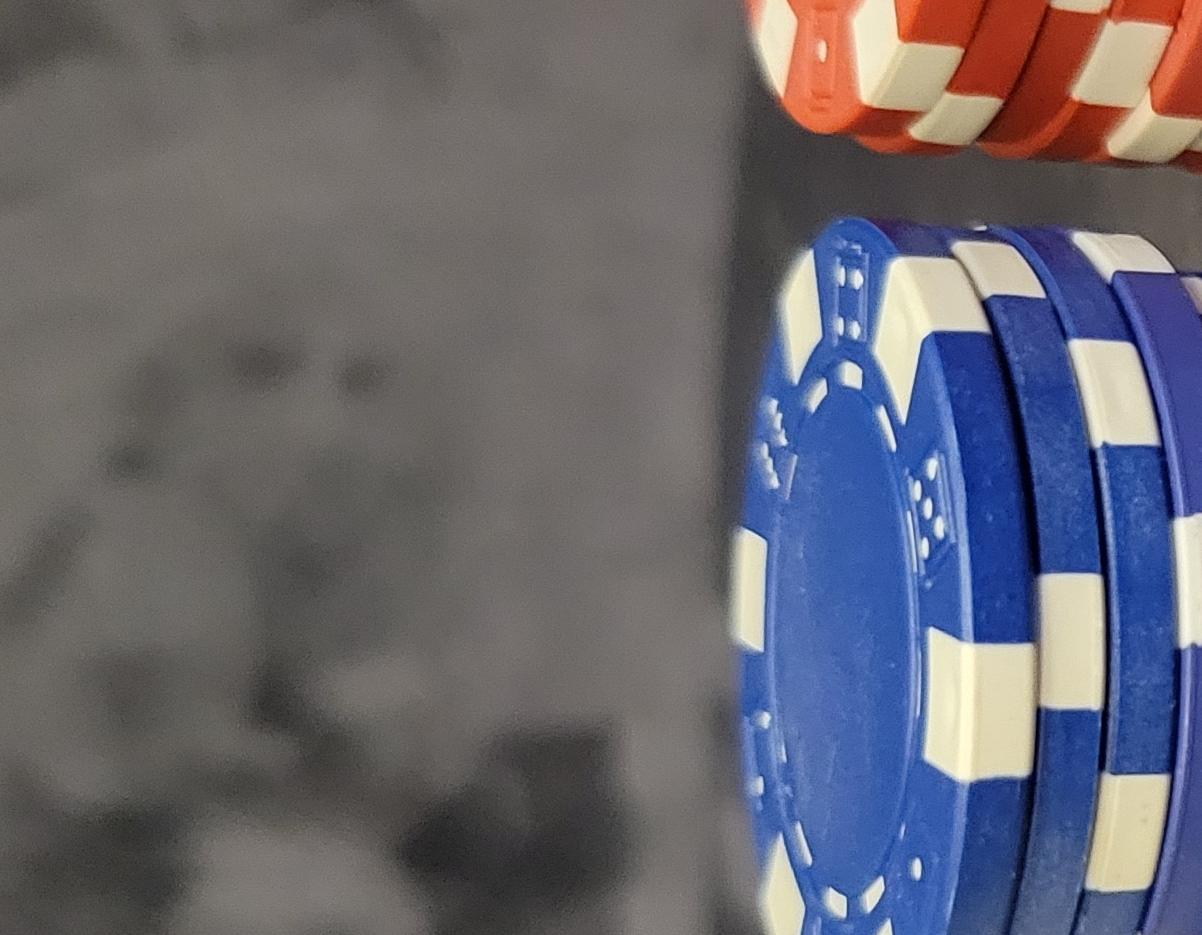Chip: (1, 288, 845, 935)
